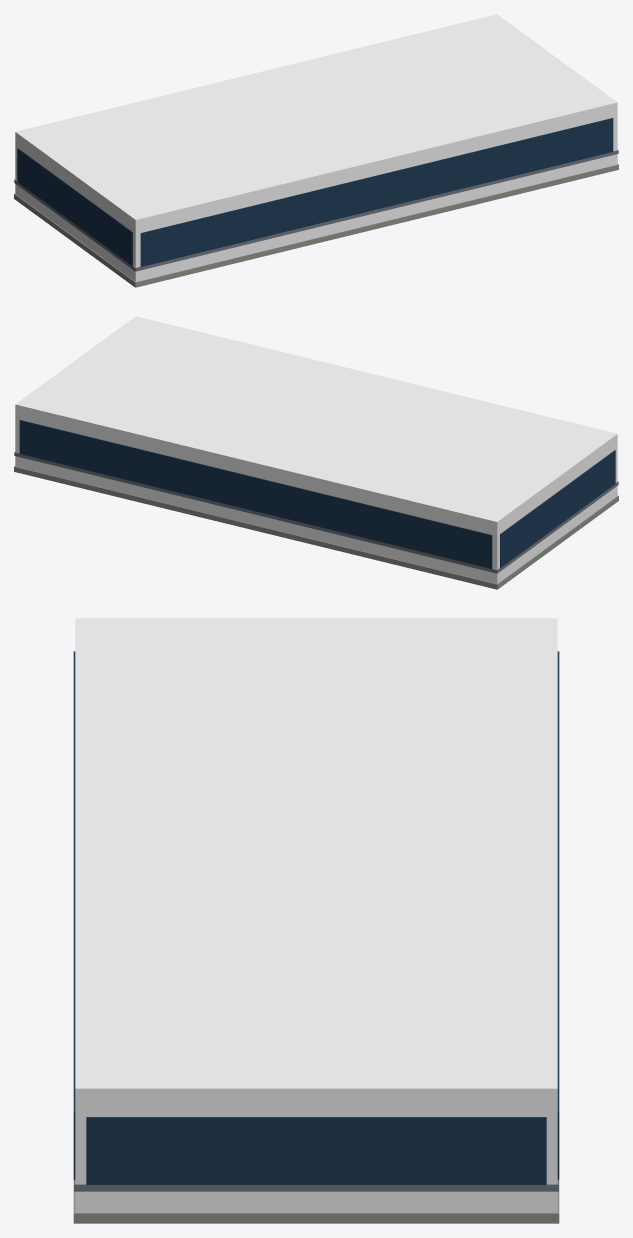
Rendered from mashup-lecture-mid-prebuilt.fbx.
3 renders of one model, top to bottom at view 1: azimuth 30°, elevation 25°; view 2: azimuth 150°, elevation 25°; view 3: azimuth 270°, elevation 25°, orthographic. The views are drawn at different scales.
Parts seen in each view (by area): view 1: a201.LectureMid; view 2: a201.LectureMid; view 3: a201.LectureMid.
Part boxes in pixels (<box>): a201.LectureMid: <box>14,14,618,287</box>; a201.LectureMid: <box>14,316,618,589</box>; a201.LectureMid: <box>73,618,559,1223</box>.
Bounding box in the file's own units: 30.1 × 4 × 13.1.
